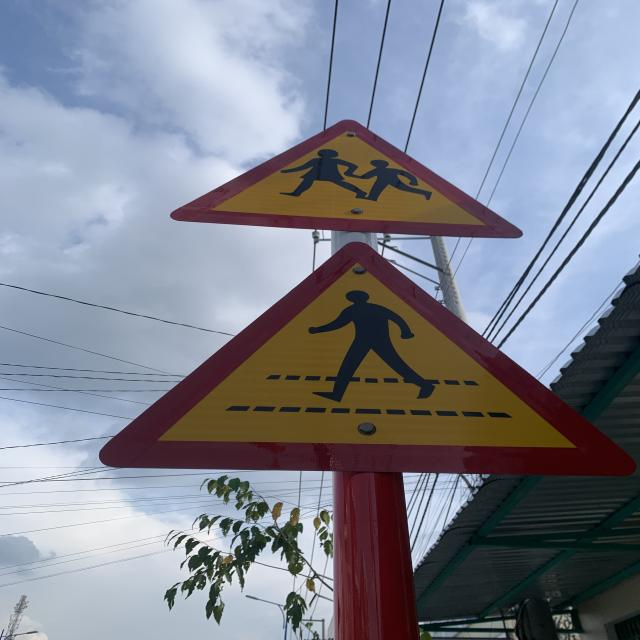Duong_Nguoi_Di_Bo_Sang_Ngang: (99, 241, 638, 475)
Vong_Xuyen: (169, 118, 524, 239)
